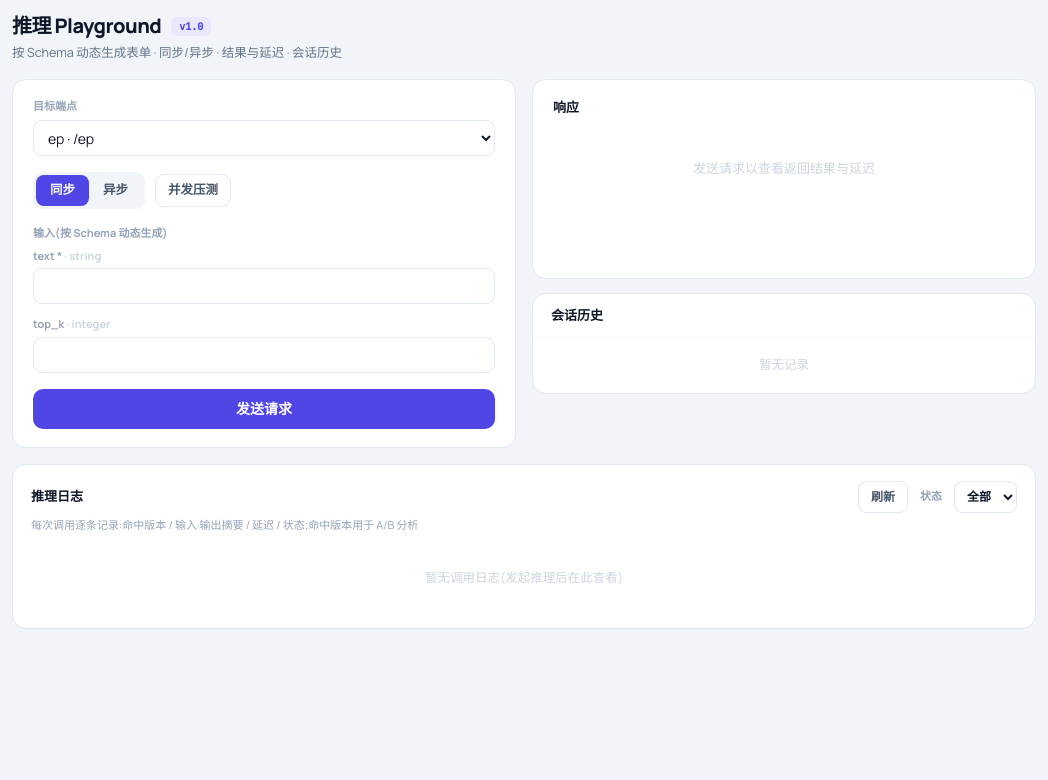
Test: PlaygroundPage 接通推理 API › 同步发送展示结果 + 延迟,并计入历史
Type "hello" into the field with test id "pg-field-text" at x=264, y=286, box top-left (33, 268), bottom-right (495, 304)
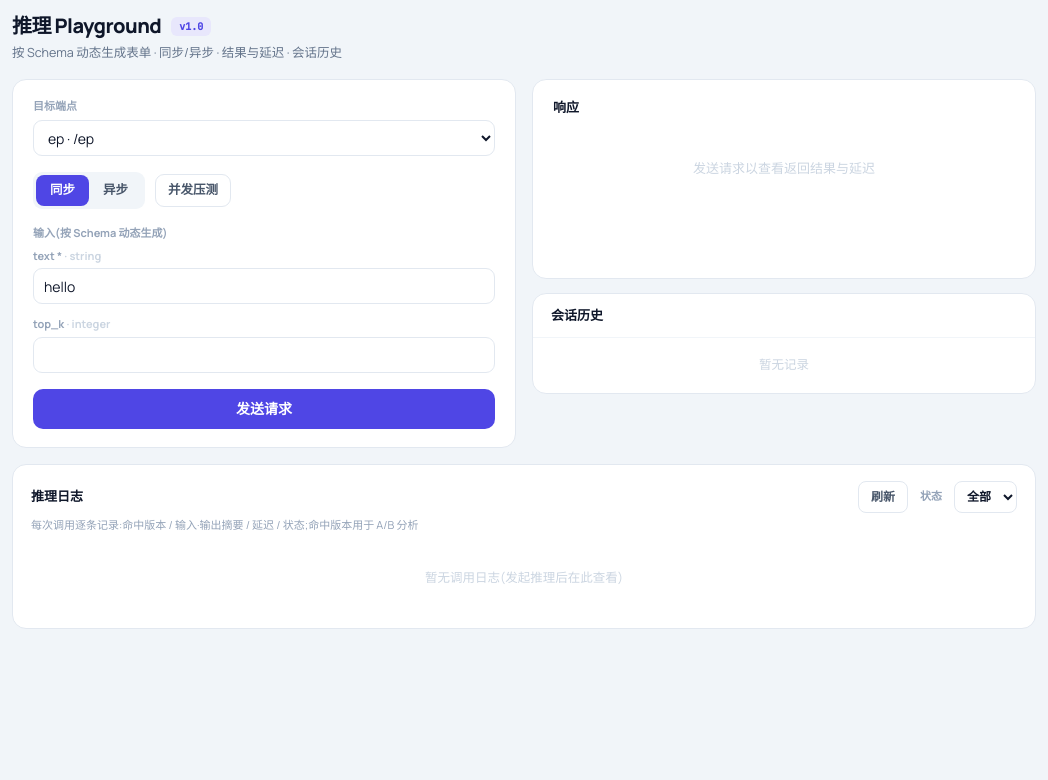
Click the button "发送请求" at x=264, y=408, box top-left (33, 388), bottom-right (495, 428)
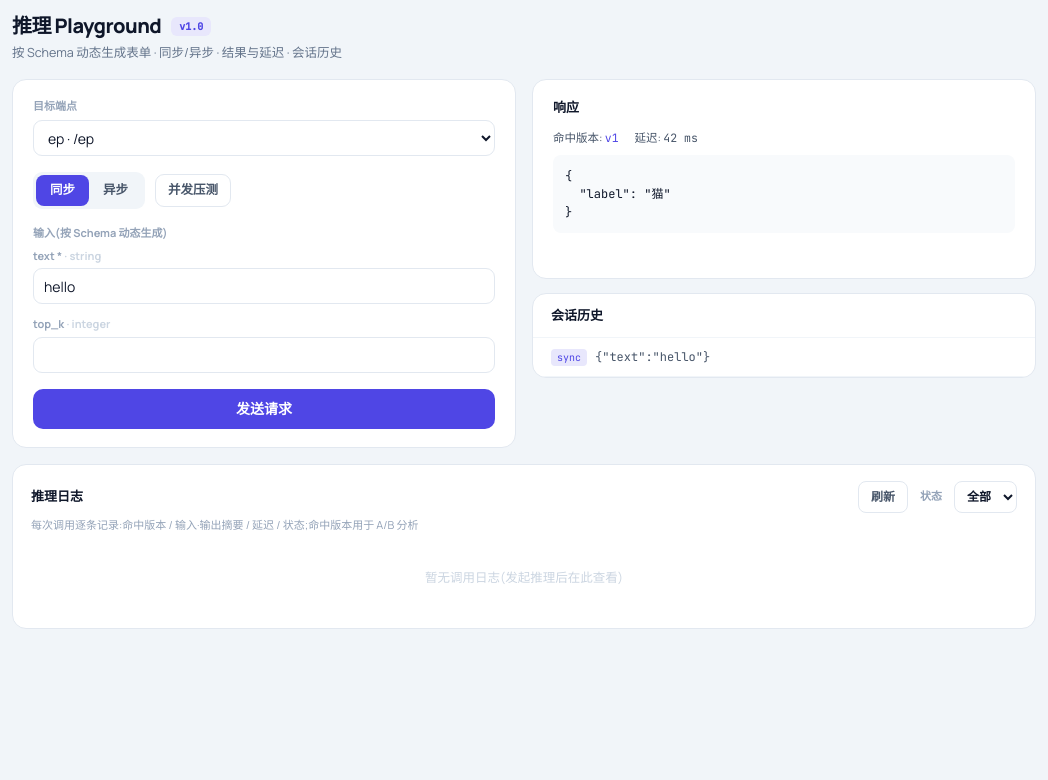
Expected: the text with test id "pg-result" shows "猫", top-left (565, 168), bottom-right (671, 220)
Expected: the text "42 ms" is shown, top-left (663, 130), bottom-right (698, 145)
Expected: the element with test id "pg-history" is shown, top-left (533, 338), bottom-right (1035, 377)
